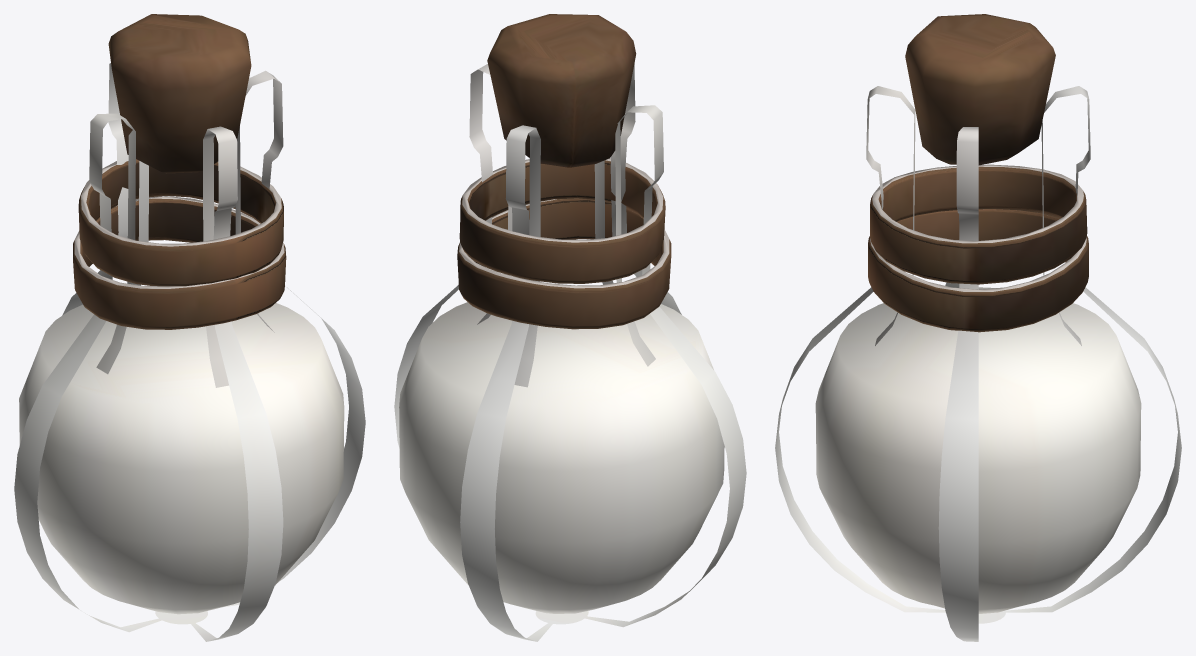
The model's file is potion.glb.
3 renders of one model, left to right at view 1: azimuth 30°, elevation 25°; view 2: azimuth 150°, elevation 25°; view 3: azimuth 270°, elevation 25°, orthographic.
Visible parts, largest first — view 1: sepband; view 2: sepband; view 3: sepband.
Part boxes in pixels (x1,y1,x2,y2): sepband: (14, 14, 365, 641); sepband: (394, 14, 746, 641); sepband: (775, 14, 1181, 641).
Size of the model in its own units: 0.4711 by 0.7784 by 0.4961.
Materials: 1 (1 with a texture image).
